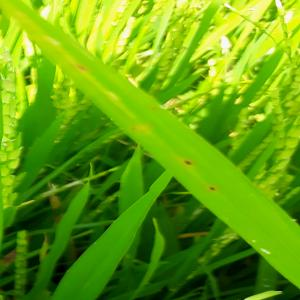0 BrownSpot: (73, 61, 88, 73), (180, 156, 194, 168), (205, 183, 219, 195), (128, 124, 141, 135), (147, 104, 160, 115)
